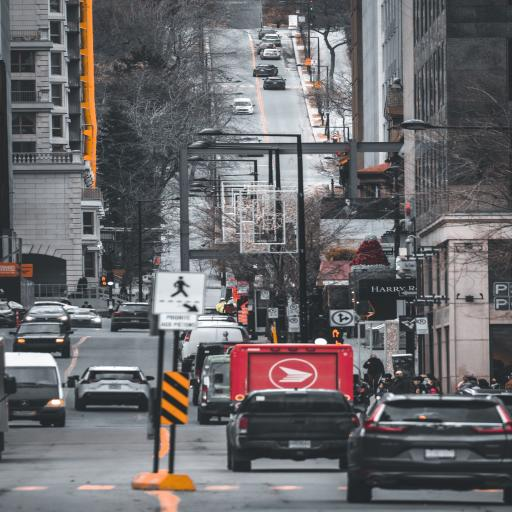car: (347, 394, 511, 504), (227, 388, 359, 471), (5, 352, 65, 427), (68, 367, 154, 411), (179, 323, 249, 372), (190, 342, 237, 405), (198, 354, 231, 424), (10, 322, 73, 358), (458, 388, 511, 416), (23, 305, 70, 330), (111, 303, 149, 331), (69, 309, 102, 328), (35, 302, 78, 312), (0, 302, 15, 326), (198, 314, 236, 323), (233, 98, 253, 114), (253, 64, 278, 76), (263, 77, 286, 89), (257, 43, 277, 55), (262, 34, 281, 46), (260, 49, 280, 59), (259, 28, 276, 39)
